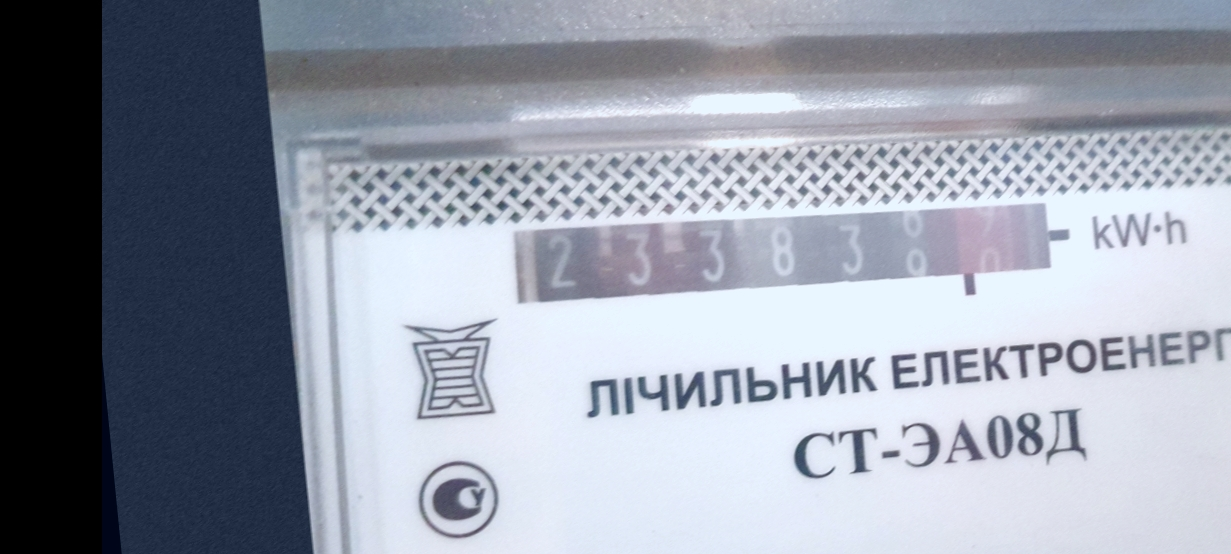0: (976, 243, 1005, 279)
2: (541, 228, 585, 293)
3: (691, 221, 733, 288), (623, 227, 656, 288), (836, 217, 870, 276)
8: (764, 219, 803, 280), (900, 205, 929, 239)
9: (970, 199, 1004, 241), (902, 243, 934, 282)
screen: (482, 154, 1087, 367)
